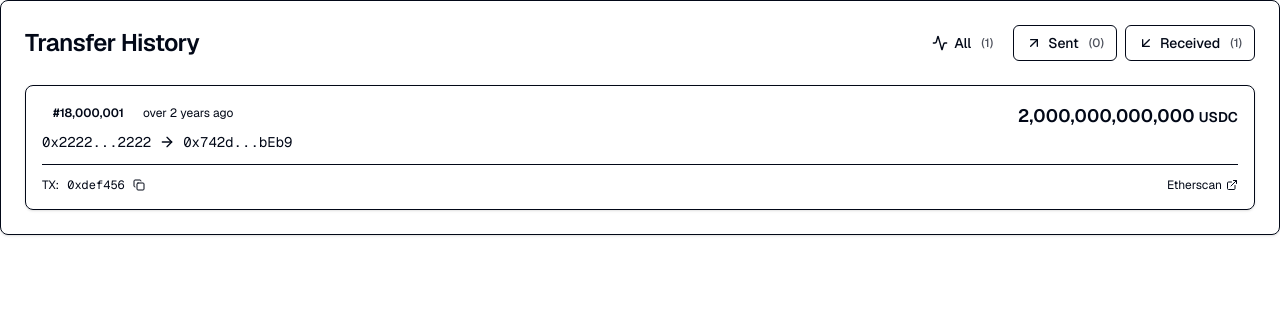
Test: TransferHistory › should show empty state for filtered tab with no results
Click Sent tab
Click the button "Sent (0)" at [1065, 43], box [1013, 25, 1117, 61]
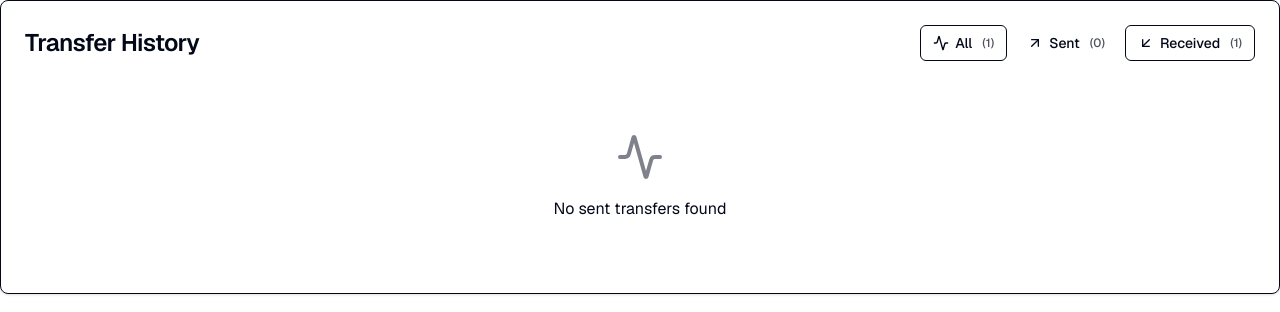
Expected: the text "No sent transfers found" is shown, [554, 198, 726, 219]
